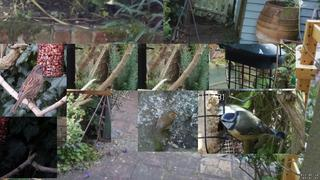blue tit: (218, 110, 285, 140)
dunnock: (10, 64, 47, 113)
robin: (154, 110, 178, 136)
